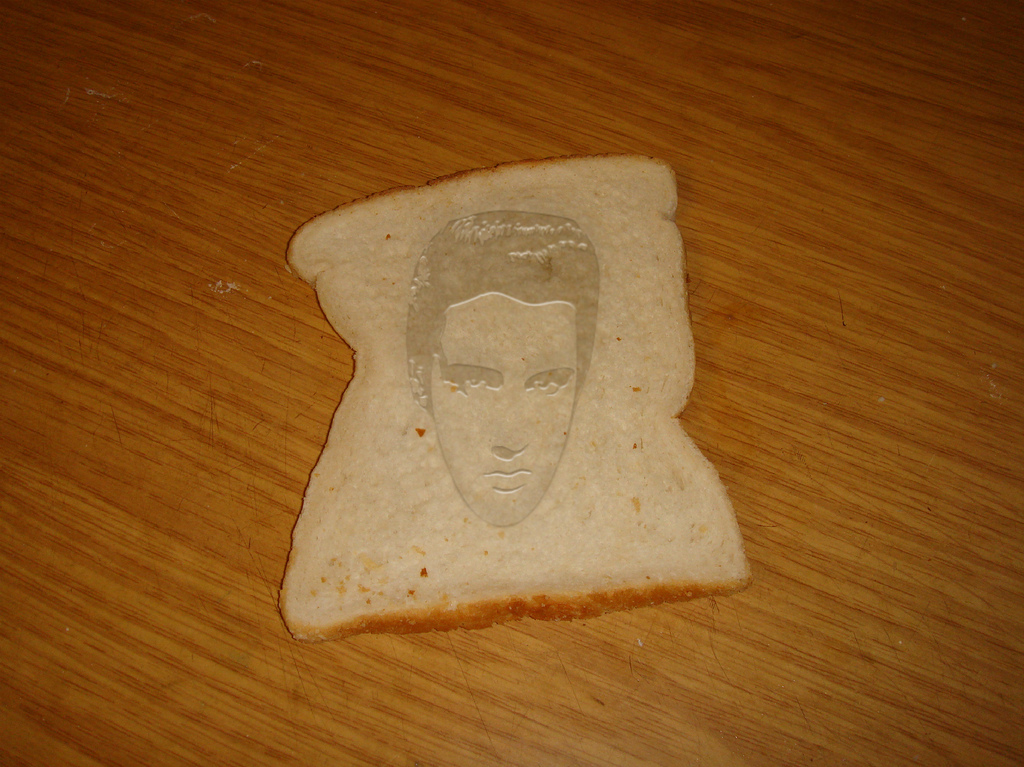slice of bread: (264, 143, 761, 659)
